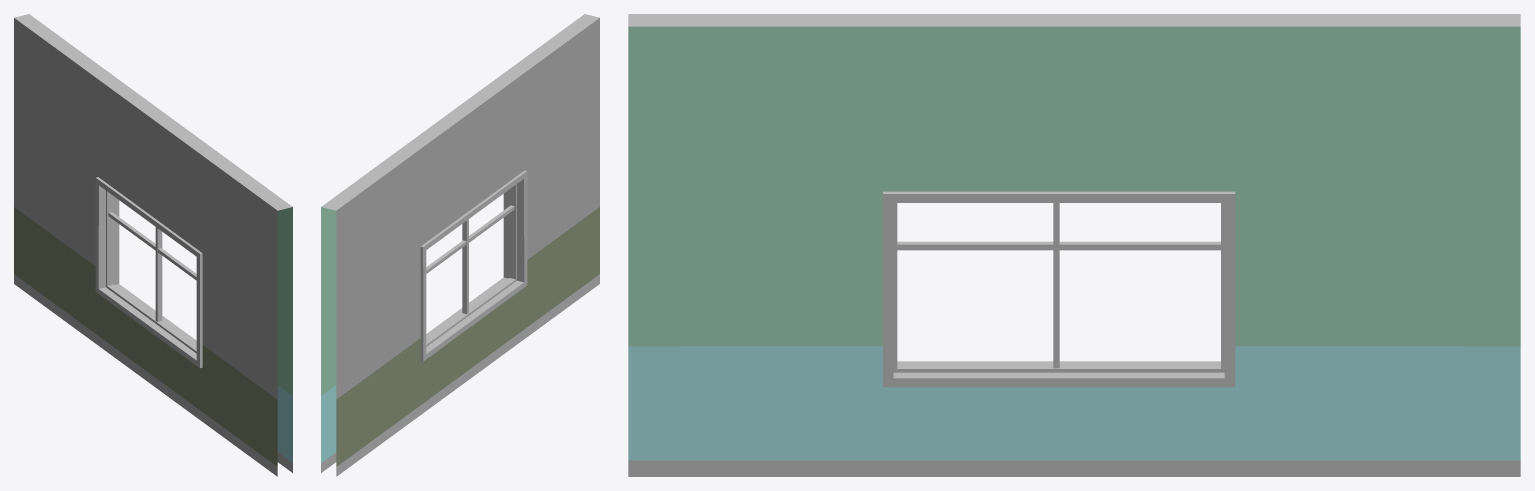
Rendered from SM_Wall_Window_B_600.fbx.
3 renders of one model, left to right at view 1: azimuth 30°, elevation 25°; view 2: azimuth 150°, elevation 25°; view 3: azimuth 270°, elevation 25°, orthographic. The views are drawn at different scales.
Visible parts, largest first — view 1: SM_Wall_Window_B_600; view 2: SM_Wall_Window_B_600; view 3: SM_Wall_Window_B_600.
Boxes of the visible parts, x1=… form: SM_Wall_Window_B_600: x1=14, y1=14, x2=292, y2=476; SM_Wall_Window_B_600: x1=321, y1=14, x2=599, y2=476; SM_Wall_Window_B_600: x1=628, y1=14, x2=1520, y2=476.
Bounding box in the file's own units: 27.27 × 334 × 600.
